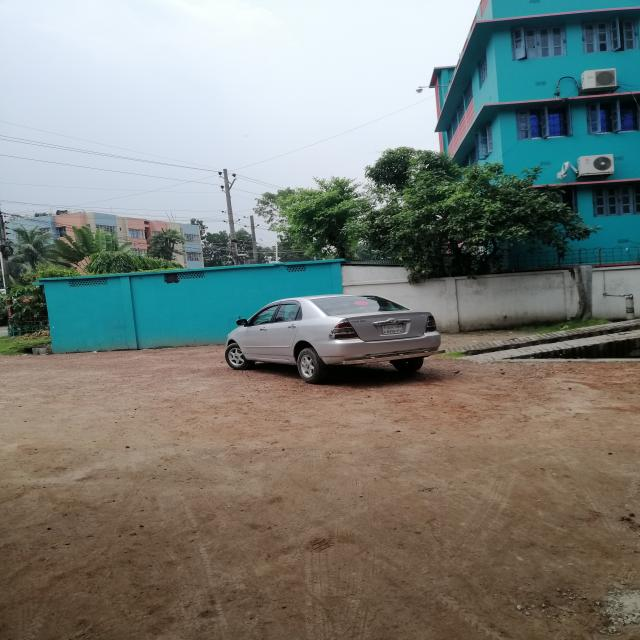Car: (219, 287, 447, 398)
